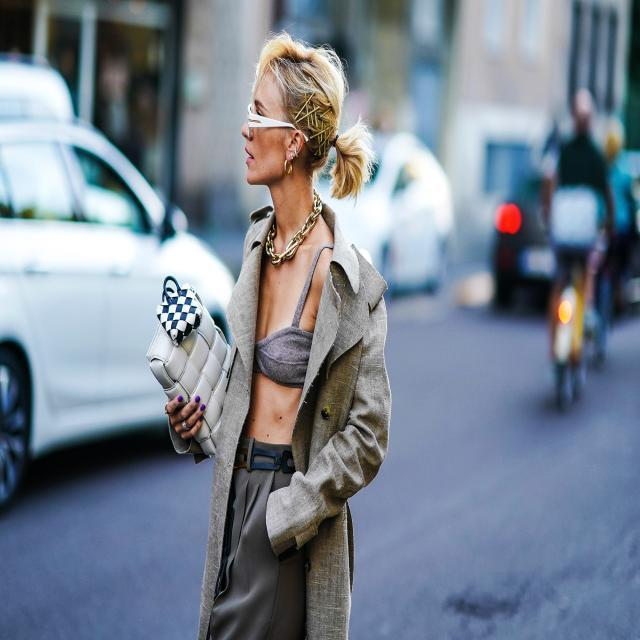Earring: (278, 137, 304, 182)
